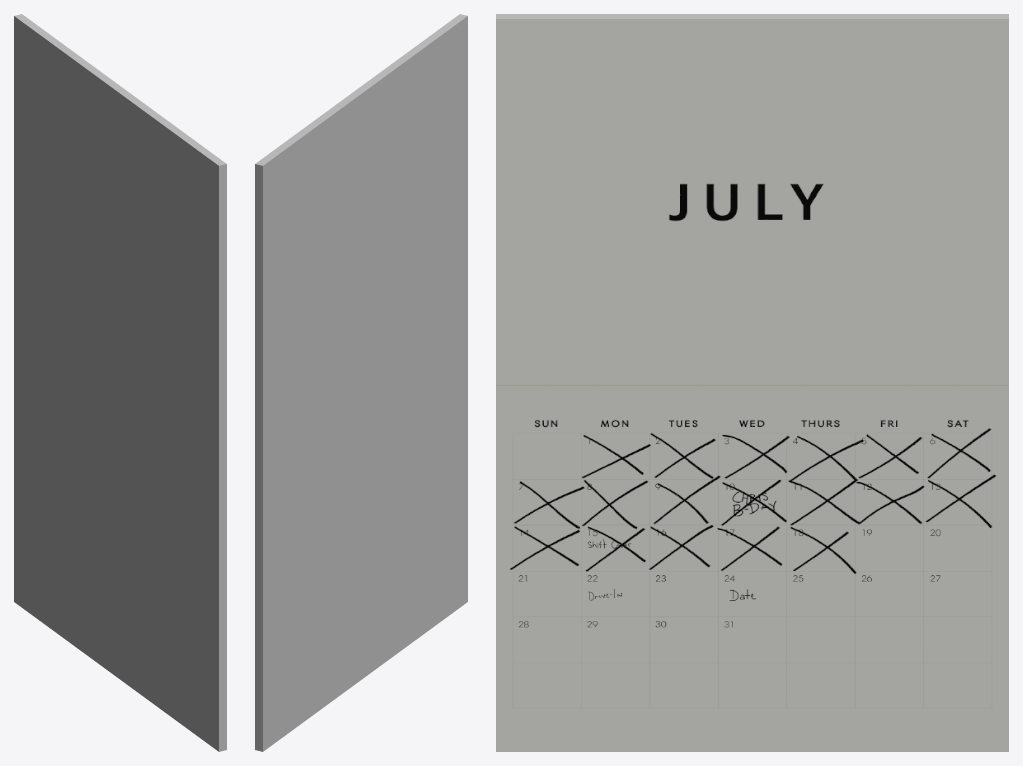
Rendered from Calendar.dae.
3 views of the same model, side by side, from view 1: azimuth 30°, elevation 25°; view 2: azimuth 150°, elevation 25°; view 3: azimuth 270°, elevation 25° (orthographic). The views are drawn at different scales.
Visible parts, largest first — view 1: Calendar; view 2: Calendar; view 3: Calendar.
Part boxes in pixels (left/top/right/bottom): Calendar: left=14, top=14, right=226, bottom=751; Calendar: left=255, top=14, right=467, bottom=751; Calendar: left=496, top=14, right=1008, bottom=751.
Size of the model in its own units: 0.0989 by 6.99 by 4.43.
2 materials, 1 textured.
